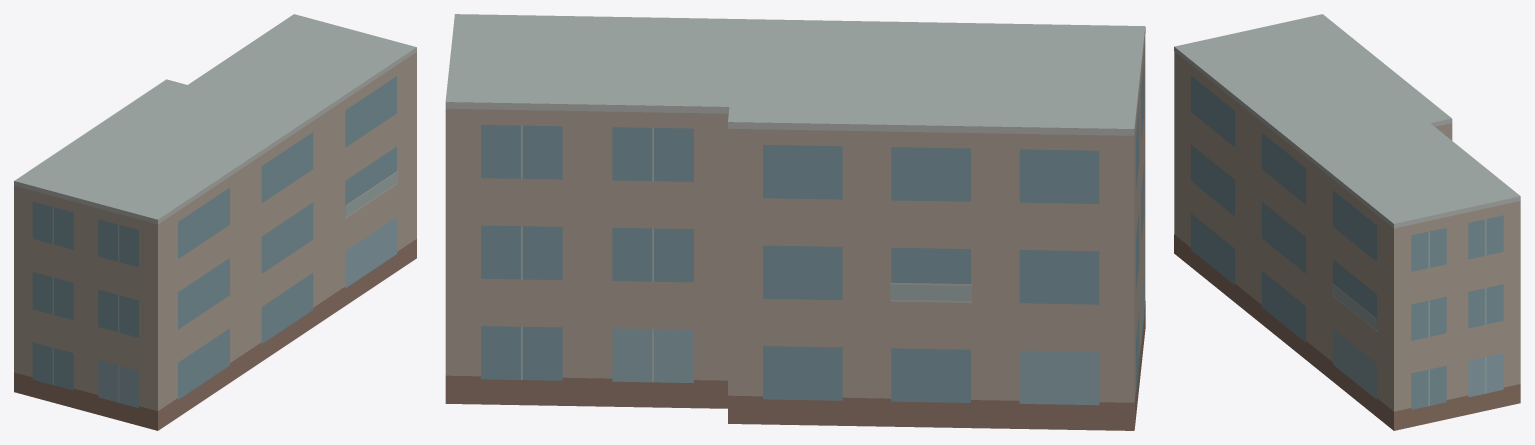
The model's file is survey-upis-32836060.glb.
The picture shows the model from 3 angles, left to right: view 1: azimuth 30°, elevation 25°; view 2: azimuth 150°, elevation 25°; view 3: azimuth 270°, elevation 25°; orthographic projection. The views are drawn at different scales.
Parts seen in each view (by area): view 1: survey-upis-32836060.tmp; view 2: survey-upis-32836060.tmp; view 3: survey-upis-32836060.tmp.
Part boxes in pixels (x1=…): survey-upis-32836060.tmp: x1=14, y1=14, x2=416, y2=430; survey-upis-32836060.tmp: x1=445, y1=14, x2=1145, y2=430; survey-upis-32836060.tmp: x1=1174, y1=14, x2=1520, y2=430.
Bounding box in the file's own units: 23.84 × 10.95 × 16.63.
